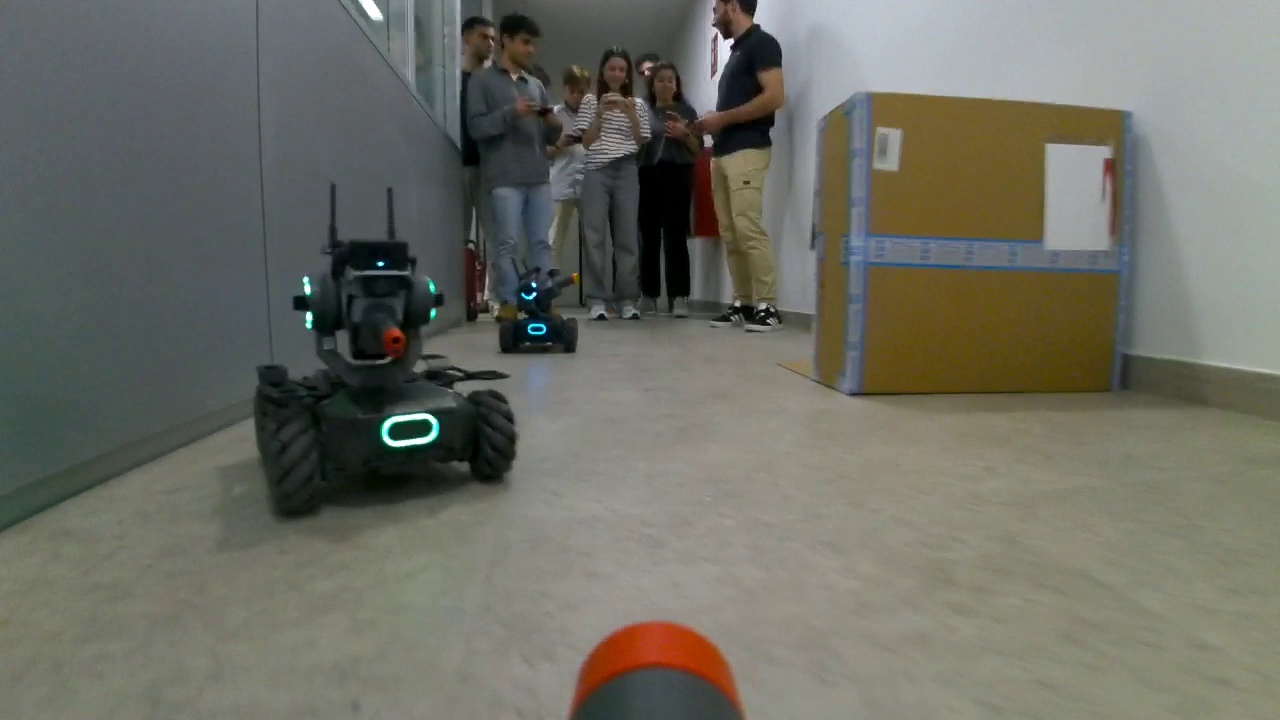robot: (248, 239, 521, 524), (494, 262, 582, 357)
